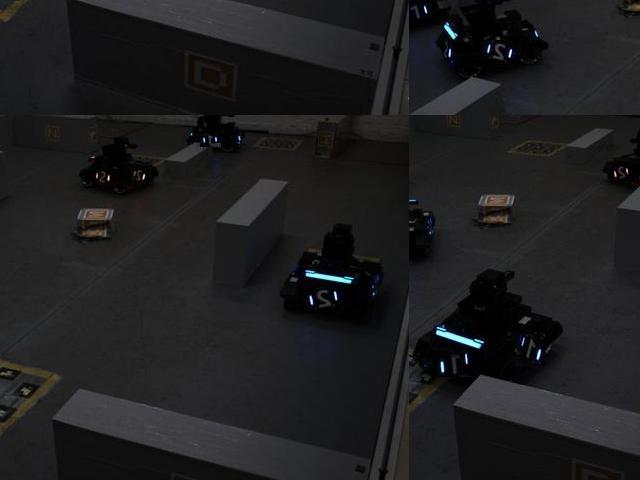armor: (434, 348, 475, 378), (306, 284, 342, 314), (516, 335, 547, 368), (483, 41, 520, 65), (409, 0, 433, 25), (90, 167, 113, 188), (613, 162, 633, 182), (131, 166, 151, 185), (200, 131, 222, 148)
